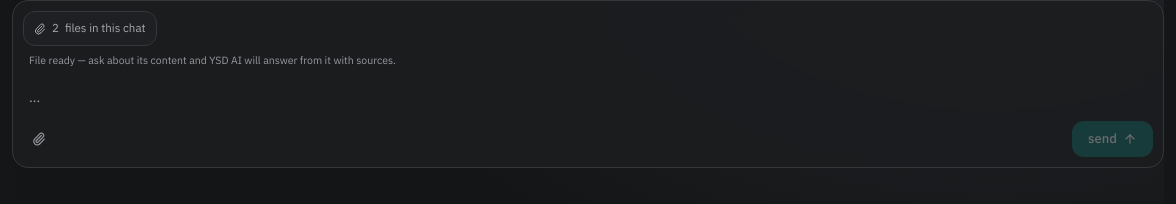
★ (٣) الإرسال والسياق › ★ ★ ★ ملفّات المحادثة مطويّةٌ في زرٍّ واحد يفتحها
The image size is (1176, 204).
Click the button "2 files in this chat". click: (90, 29)
box: [23, 11, 157, 46]
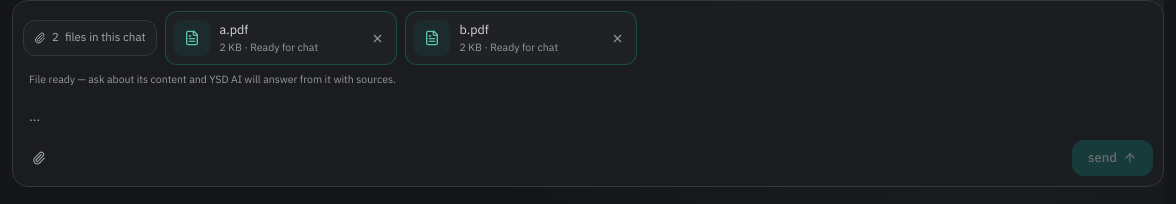
Expected: the text "File ready — ask about its content" is shown, [29, 72, 396, 87]
Now the button "2 files in this chat" is expanded, box [23, 20, 157, 56]
